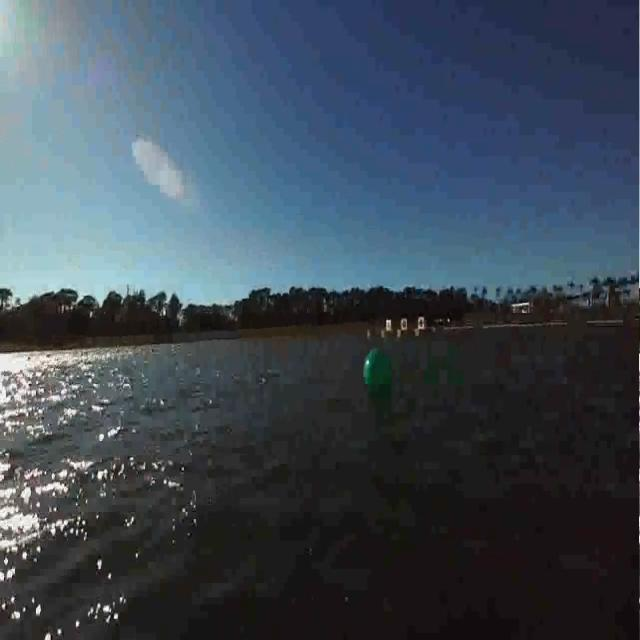green-buoy: (360, 350, 396, 397)
